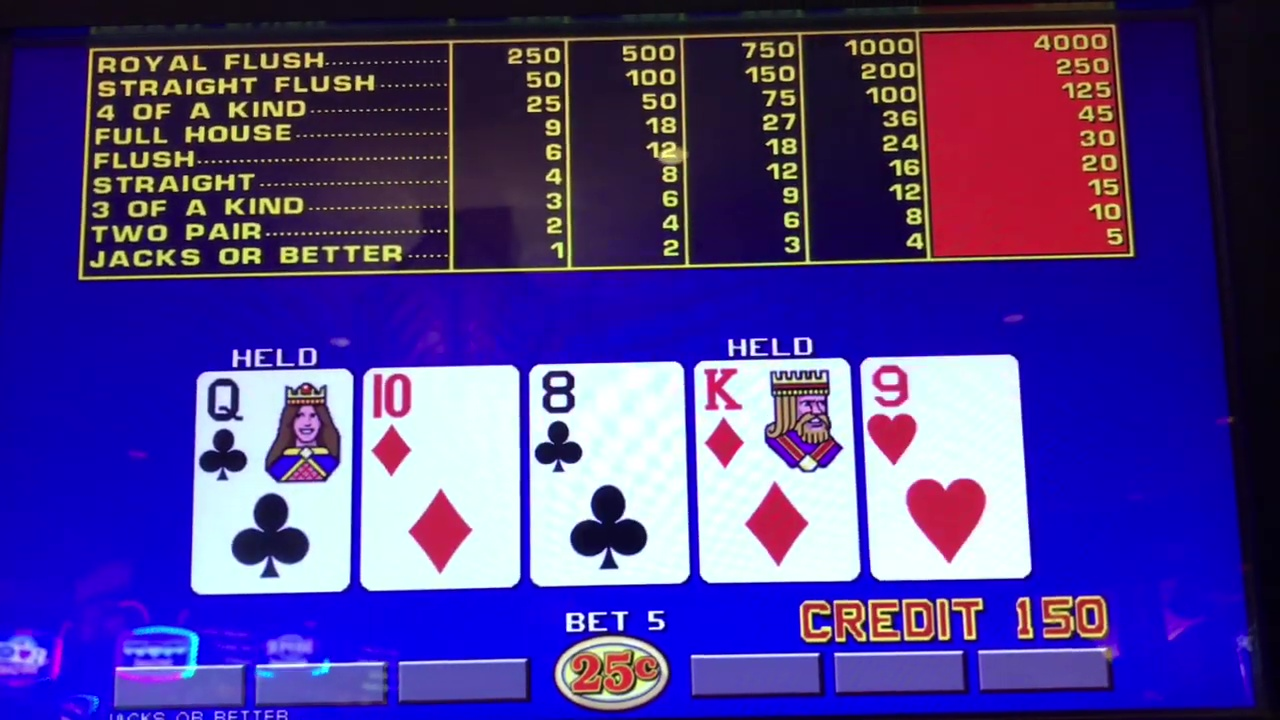C8: (536, 367, 681, 583)
CQ: (197, 372, 343, 594)
DT: (702, 358, 847, 581), (369, 370, 510, 586)
H9: (867, 356, 1016, 576)
